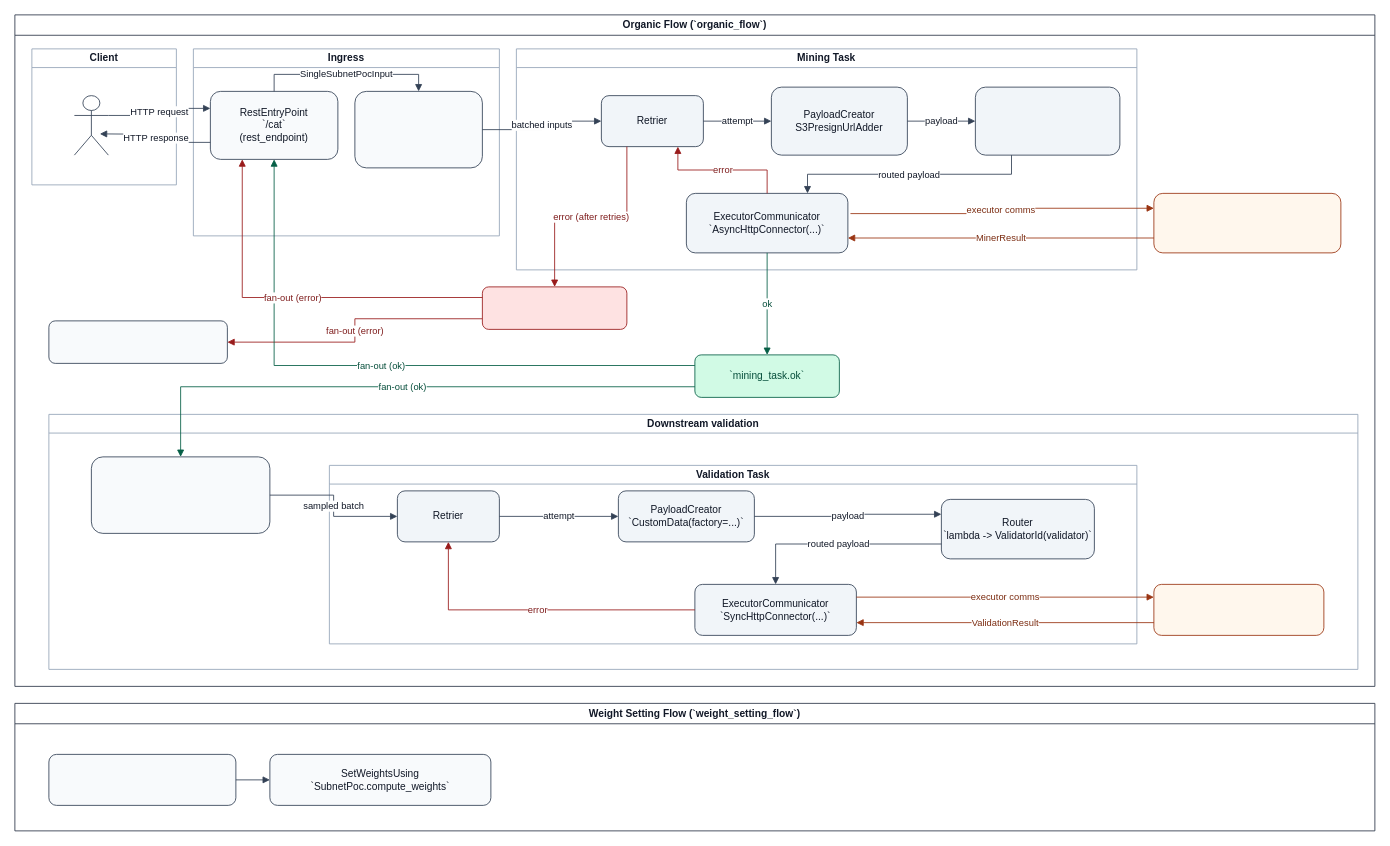
This 1390x846 diagram has some shape labels left out. The centre of each missing label's shape, as x and y in pixels:
"`mining_task.error`" goes at (554,307).
"BatchBuffer (max_elements=8)" goes at (418,129).
"BlockBasedTrigger (after_epoch_delay_blocks=15)" goes at (142,779).
"MinerResultSampler" goes at (180,494).
"Registered Miners `registered_miners(subnet-poc)`" goes at (1247,223).
"Router" goes at (1047,120).
"SomeOtherSideEffect" goes at (137,341).
"User" goes at (91,125).
"Validation Executor `ValidatorId(validator)`" goes at (1238,609).
